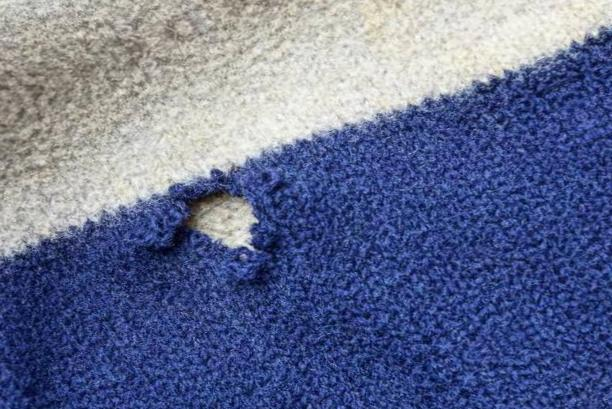hole: (173, 187, 262, 257)
